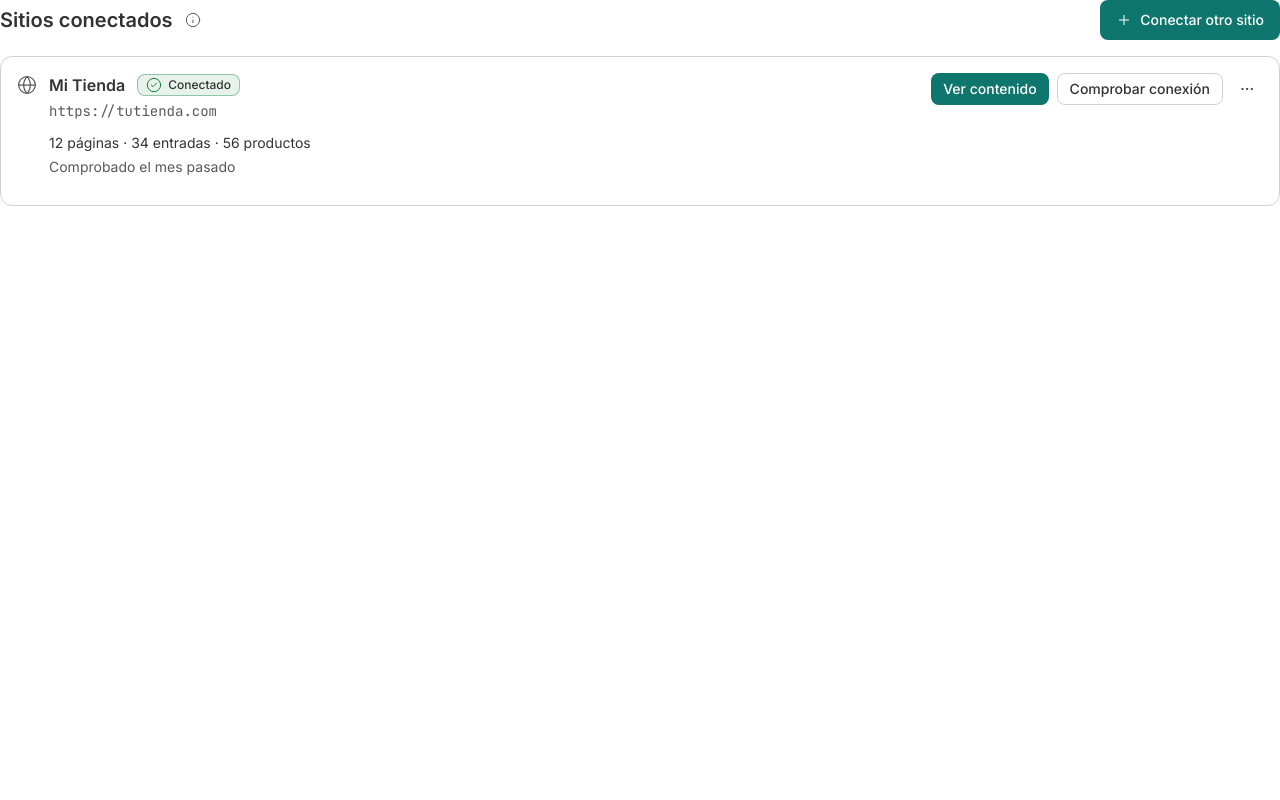
Test case: Ver contenido › pestañas Páginas, Entradas y Productos; tabla con título, dirección y fecha
The image size is (1280, 800).
Click the button with aria-label "Ver contenido de Mi Tienda". click: {"x": 990, "y": 89}
box: x1=931 y1=73 x2=1049 y2=105
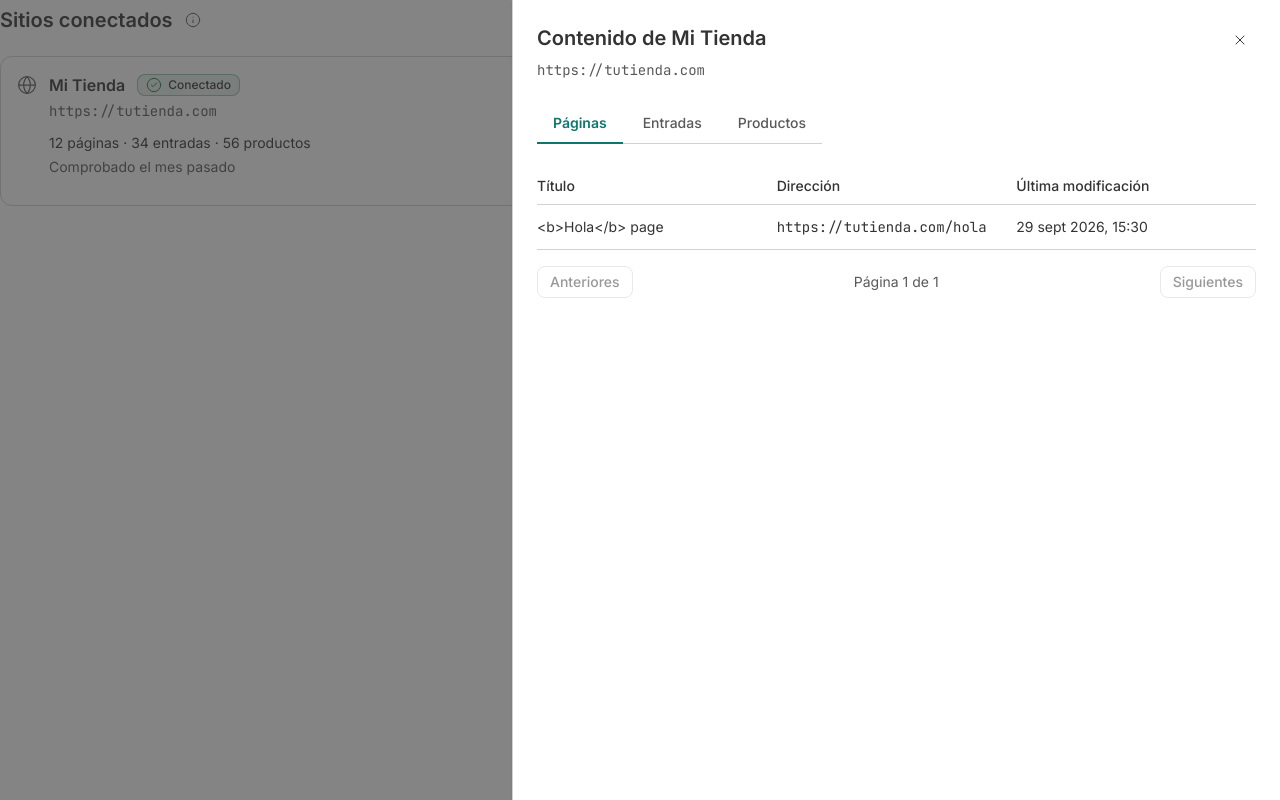
Expected: the tabs read "Páginas", "Entradas", "Productos", in this order
Expected: the column headings read "Título", "Dirección", "Última modificación", in this order, x1=537 y1=168 x2=777 y2=204; x1=777 y1=168 x2=1016 y2=204; x1=1016 y1=168 x2=1256 y2=204
Expected: the text "<b>Hola</b> page" is shown, x1=537 y1=204 x2=777 y2=250
Click the tab "Entradas". click: {"x": 672, "y": 124}
box: x1=627 y1=104 x2=718 y2=144
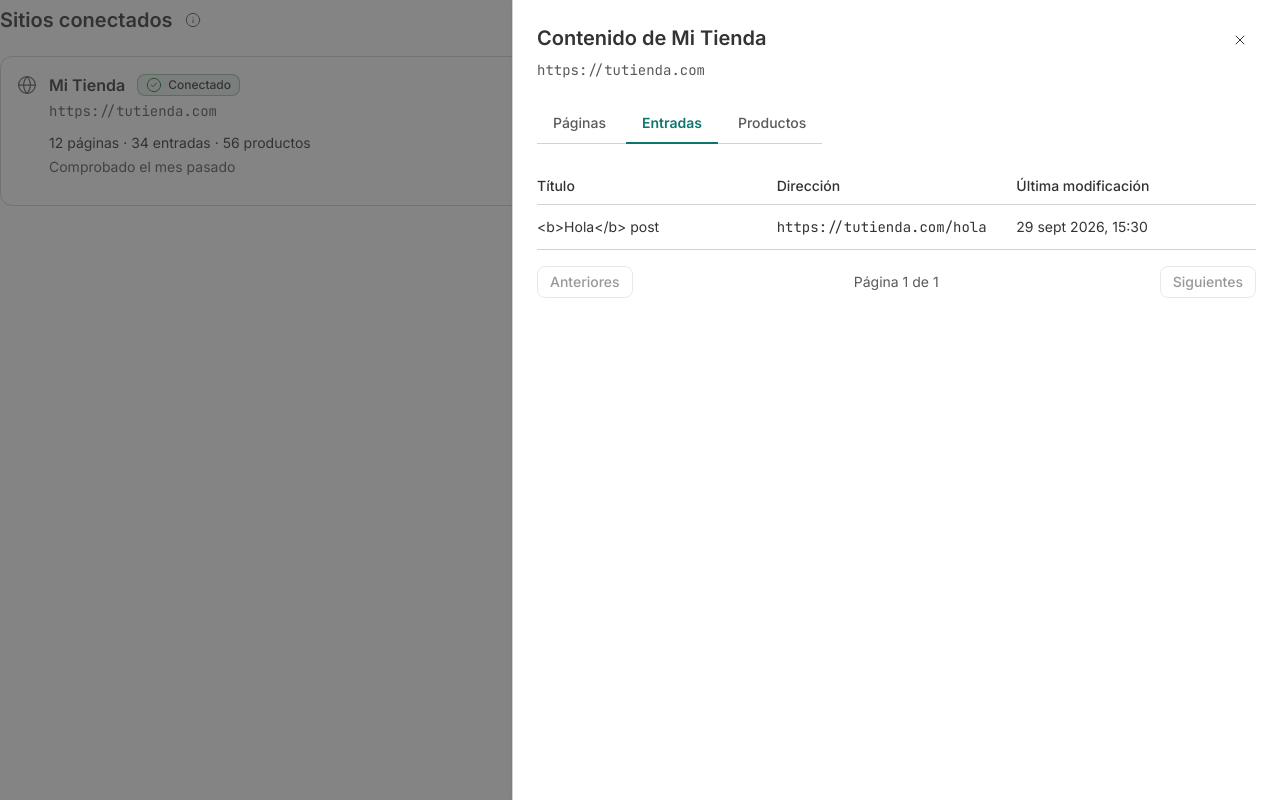
Expected: the text "<b>Hola</b> post" is shown, x1=537 y1=204 x2=777 y2=250
Click the tab "Productos". click: {"x": 772, "y": 124}
box: x1=722 y1=104 x2=822 y2=144
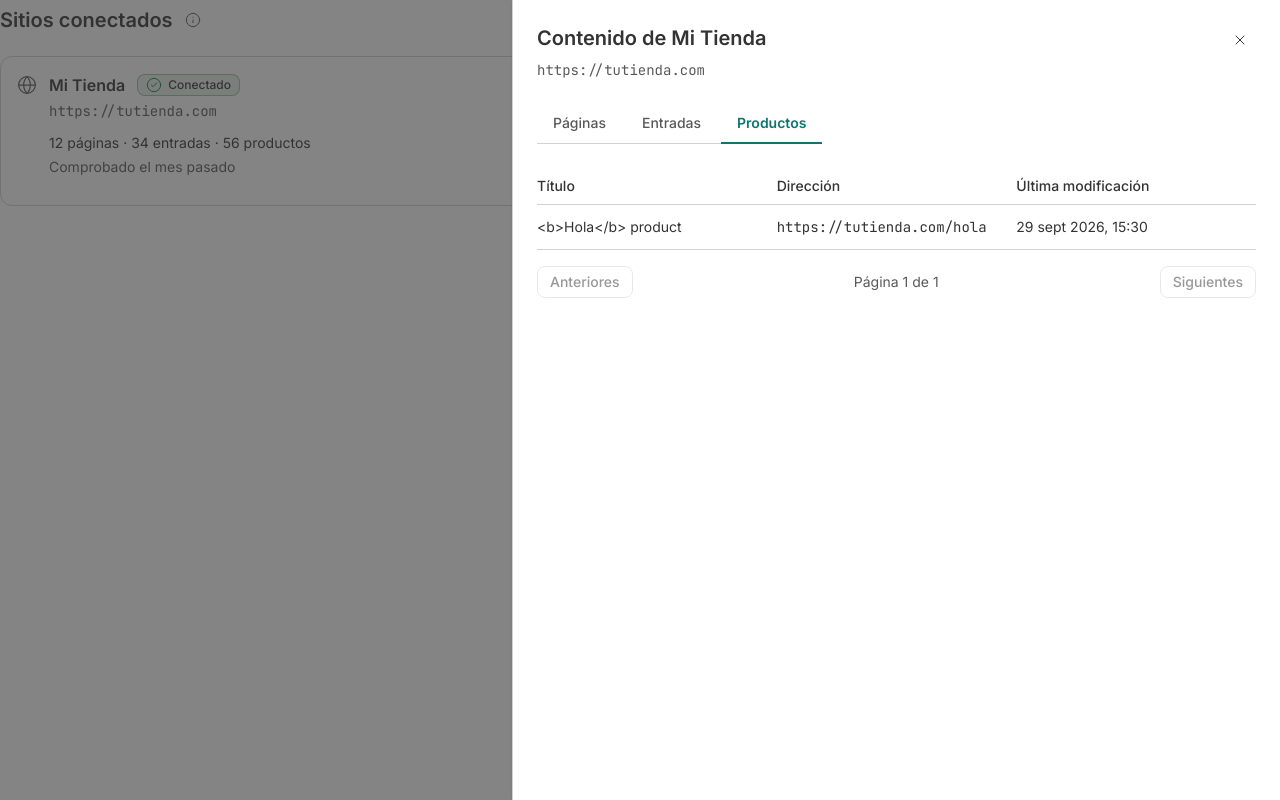
Expected: the text "<b>Hola</b> product" is shown, x1=537 y1=204 x2=777 y2=250
